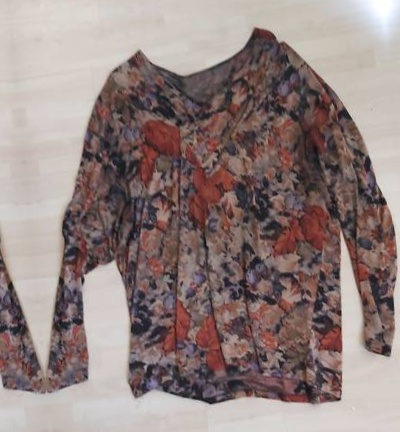Blouse: (15, 11, 400, 432), (0, 47, 48, 432), (391, 0, 400, 402), (0, 0, 5, 32)
